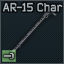AR-15 Avalanche MOD2 charging handle: (0, 0, 64, 64)
